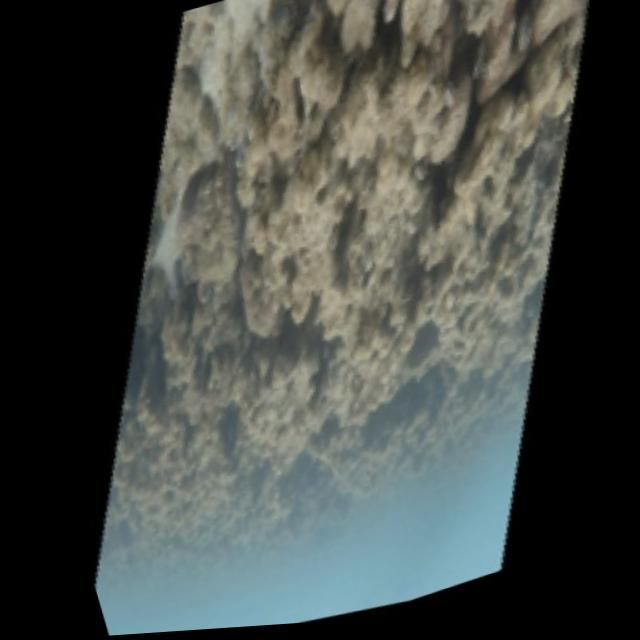Dead Coral: (119, 74, 388, 361), (276, 23, 515, 288), (169, 272, 396, 530), (258, 0, 607, 145), (294, 221, 526, 438)
